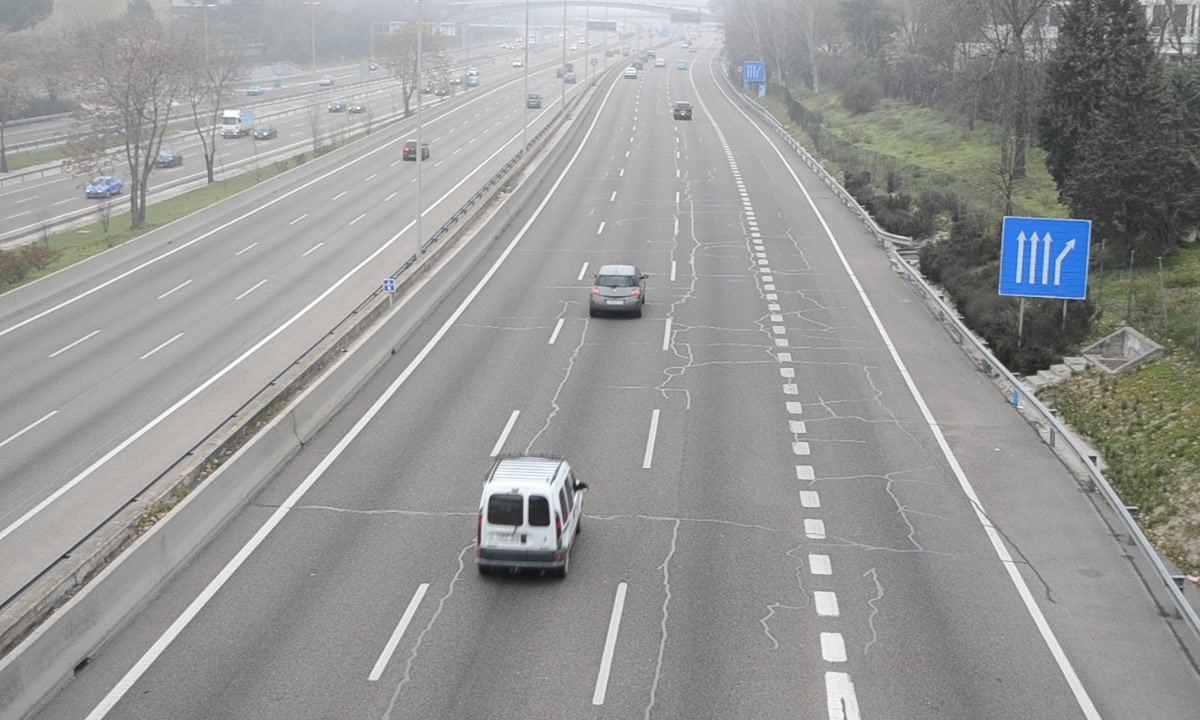car: (591, 263, 645, 317)
van: (479, 457, 581, 576)
